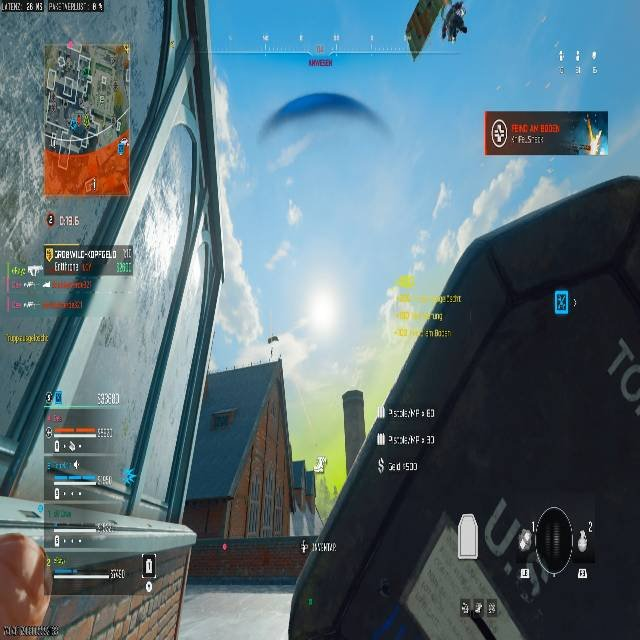player: (442, 1, 468, 42)
